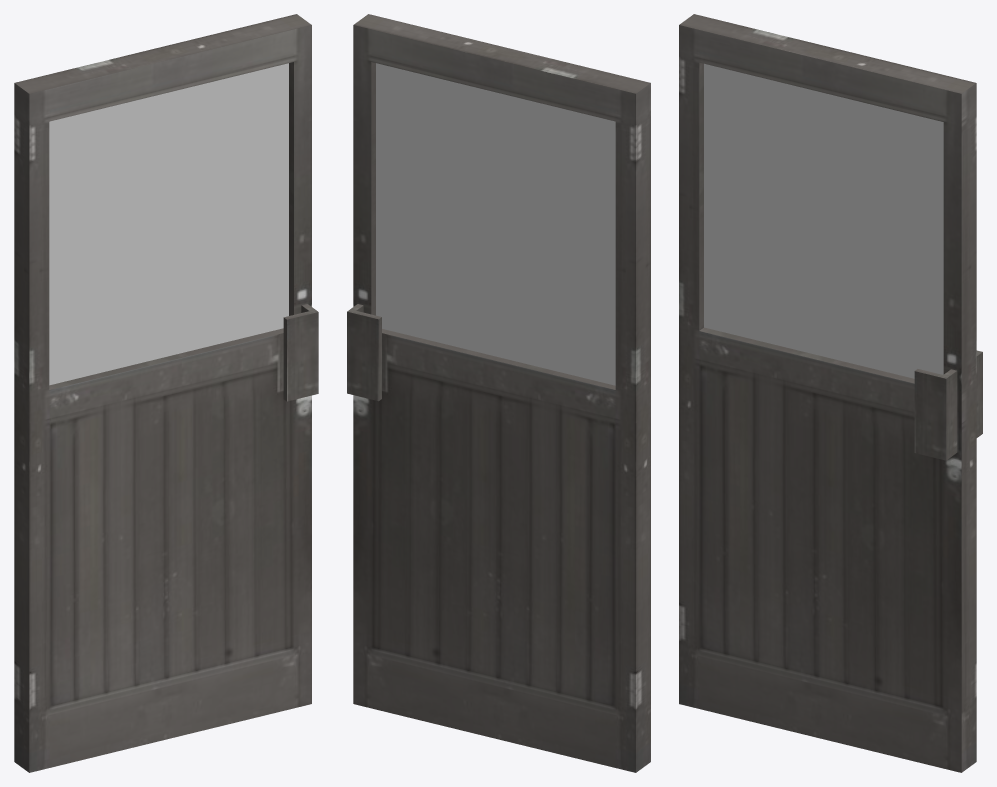
Rendered from DoorsMetal.dae.
3 renders of one model, left to right at view 1: azimuth 30°, elevation 25°; view 2: azimuth 150°, elevation 25°; view 3: azimuth 330°, elevation 25°, orthographic.
Parts seen in each view (by area): view 1: DoorsMetal; view 2: DoorsMetal; view 3: DoorsMetal.
Boxes of the visible parts, bbox=[...] form: DoorsMetal: bbox=[14, 14, 318, 772]; DoorsMetal: bbox=[347, 14, 650, 772]; DoorsMetal: bbox=[679, 14, 982, 772].
Bounding box in the file's own units: 1.15 × 0.2587 × 2.64.
2 materials, 1 textured.
